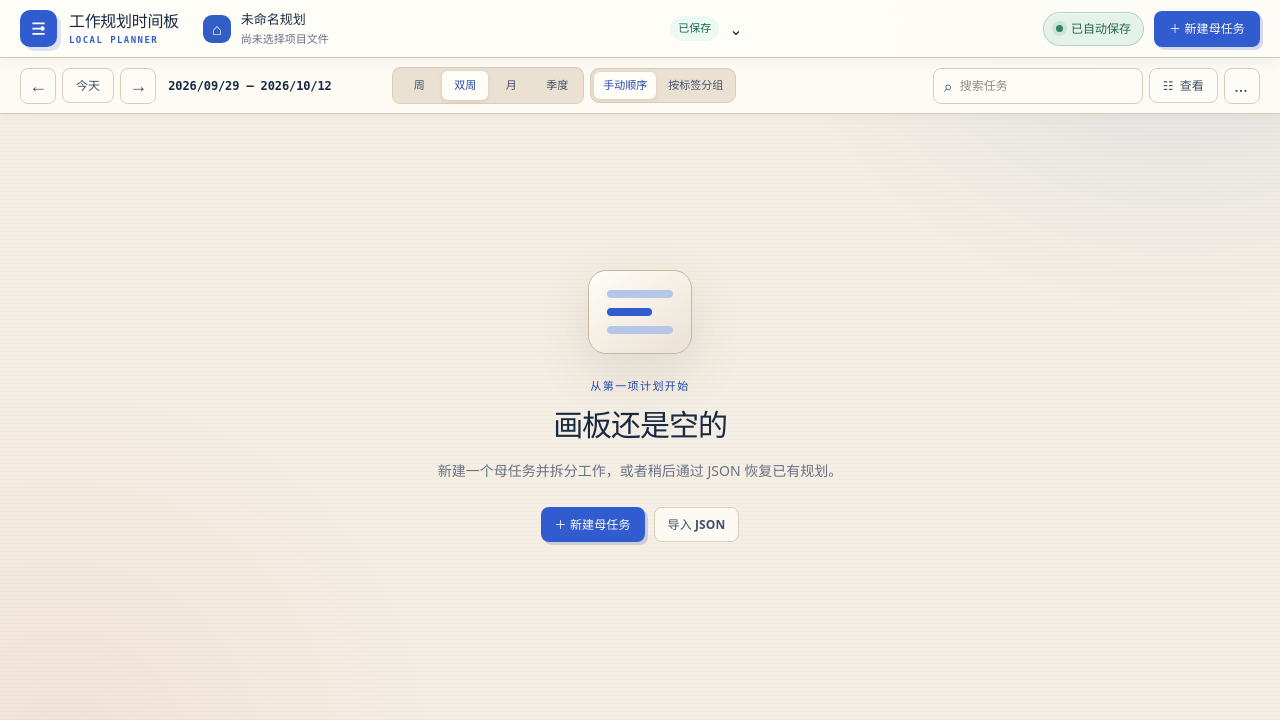
board menus › executes a menu action before closing
Click the button named "更多数据操作".
click(1242, 86)  # box [1224,68,1260,104]
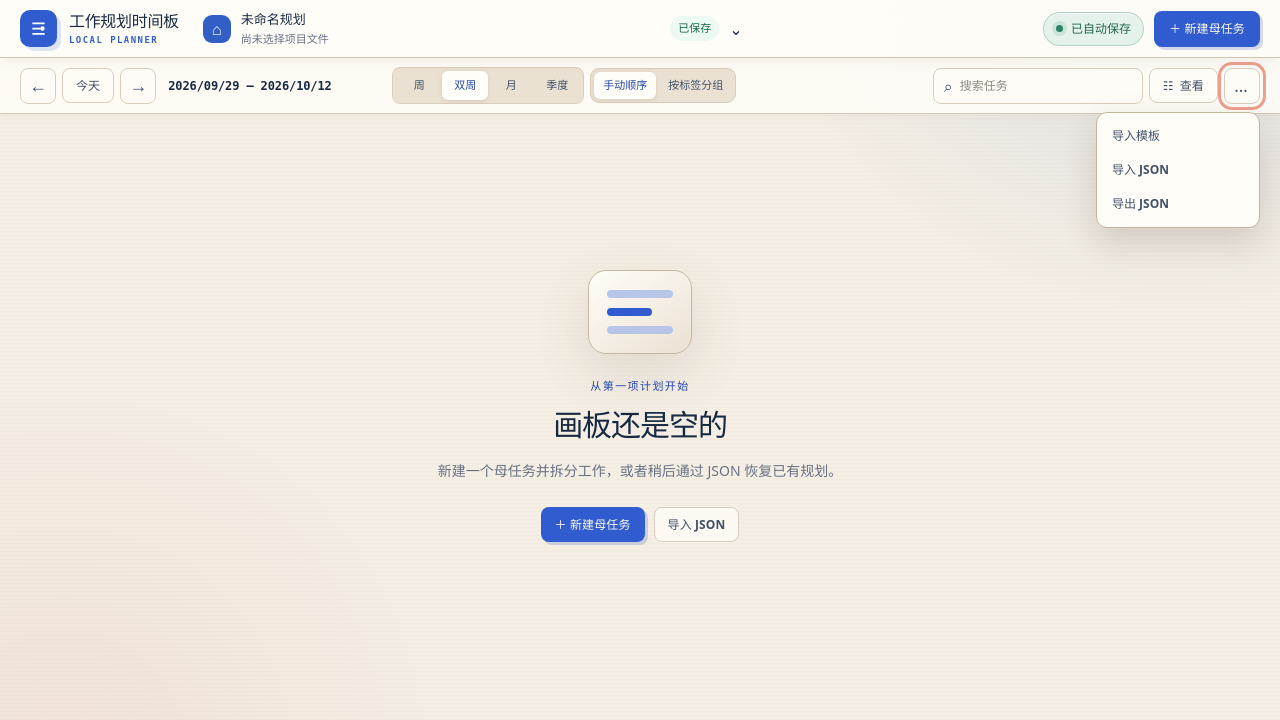
Click the button "导入模板".
click(1178, 136)  # box [1103,118,1253,152]
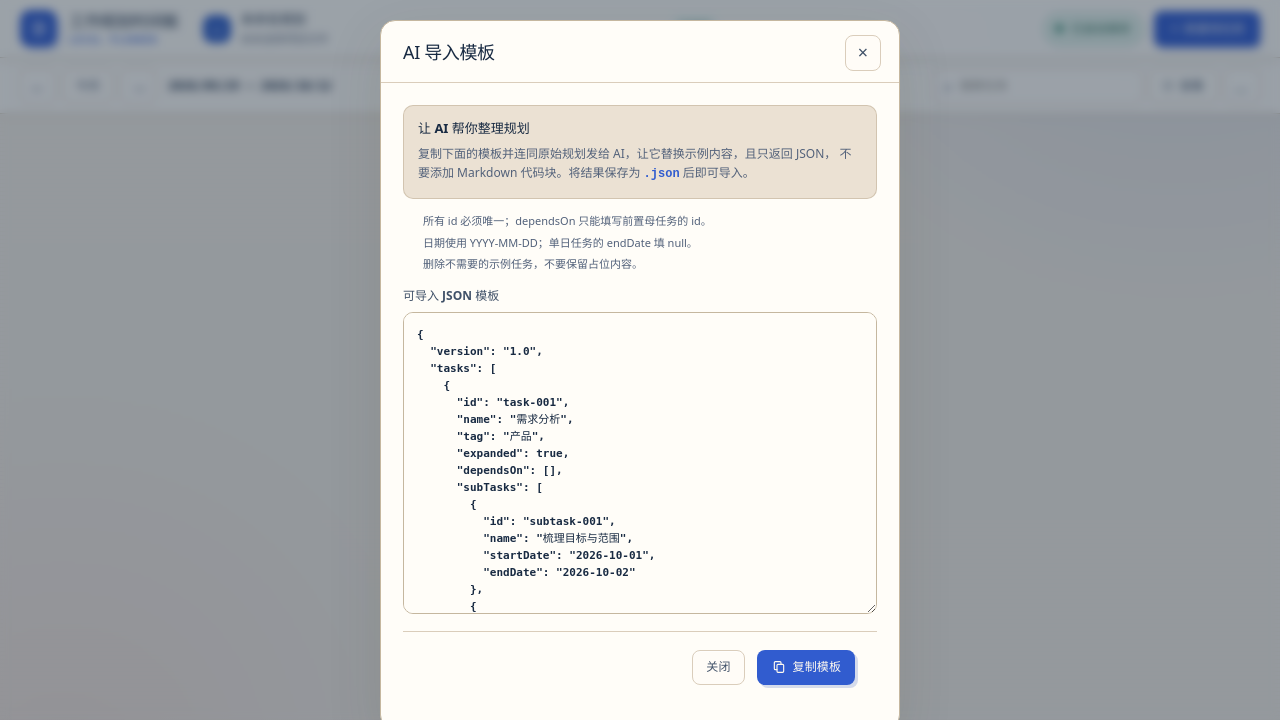
Expected: the menu is gone
